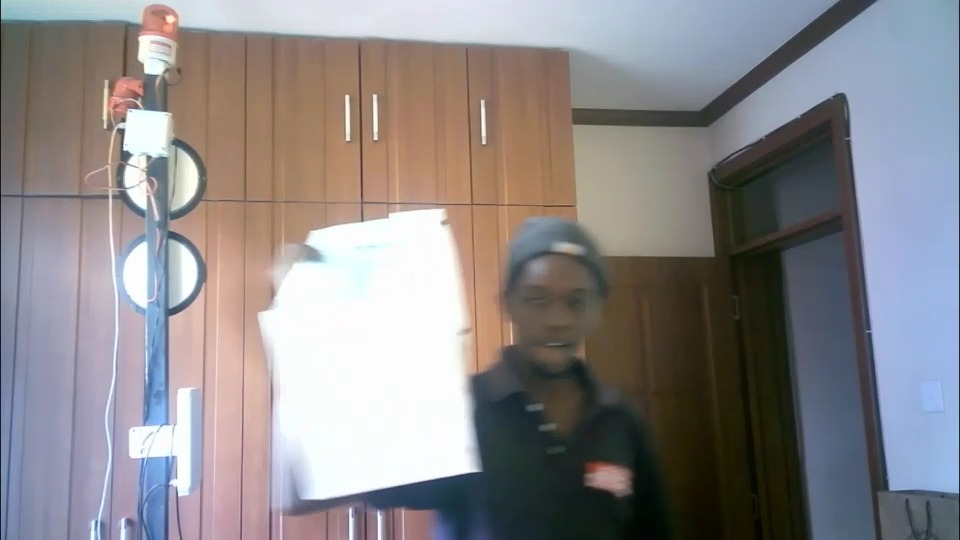wheat_flour_blue_label: (262, 211, 481, 499)
